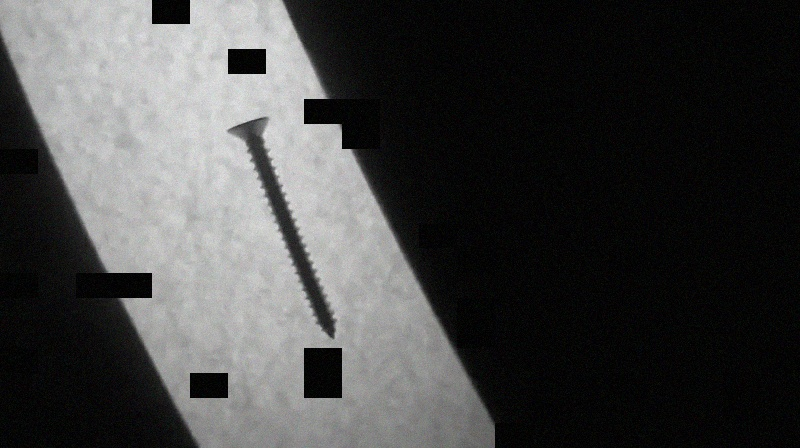S002: (222, 110, 339, 341)
